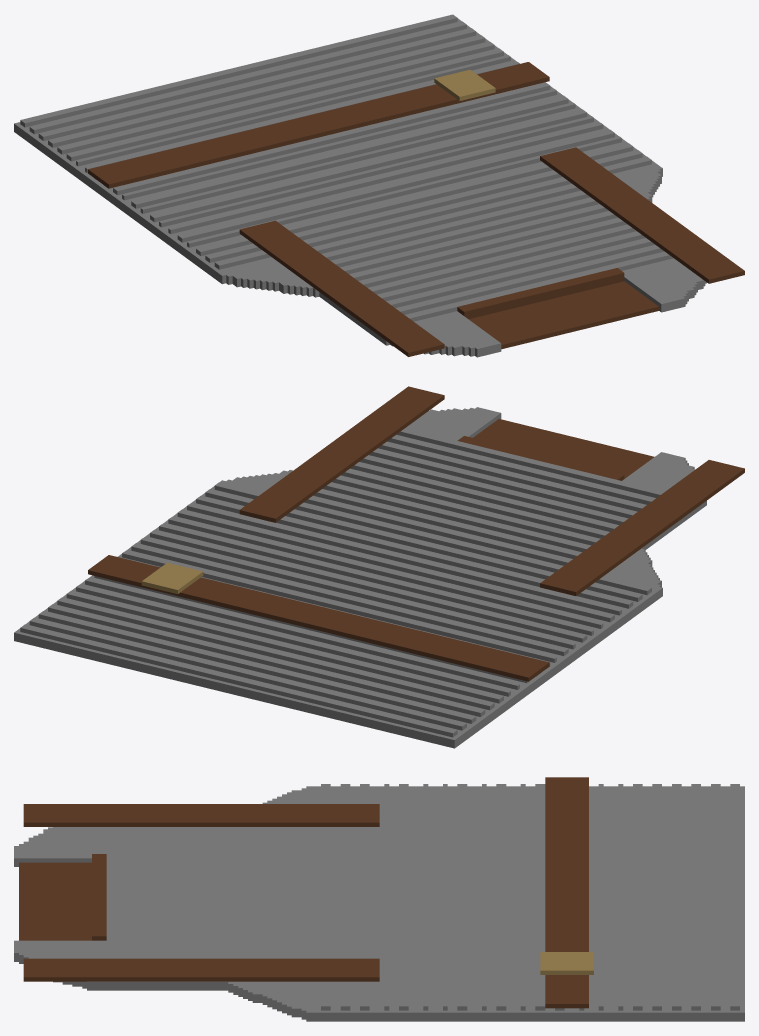
The model's file is lc_chainmail_vest.glb.
The picture shows the model from 3 angles, top to bottom: view 1: azimuth 30°, elevation 25°; view 2: azimuth 150°, elevation 25°; view 3: azimuth 270°, elevation 25°; orthographic projection. The views are drawn at different scales.
Parts seen in each view (by area): view 1: lc_chainmail_vest:compound; view 2: lc_chainmail_vest:compound; view 3: lc_chainmail_vest:compound.
Boxes of the visible parts, left/top/right/bottom form: lc_chainmail_vest:compound: left=14, top=14, right=744, bottom=357; lc_chainmail_vest:compound: left=14, top=386, right=744, bottom=748; lc_chainmail_vest:compound: left=14, top=777, right=744, bottom=1021.
Size of the model in its own units: 0.44 by 0.02 by 0.6.
